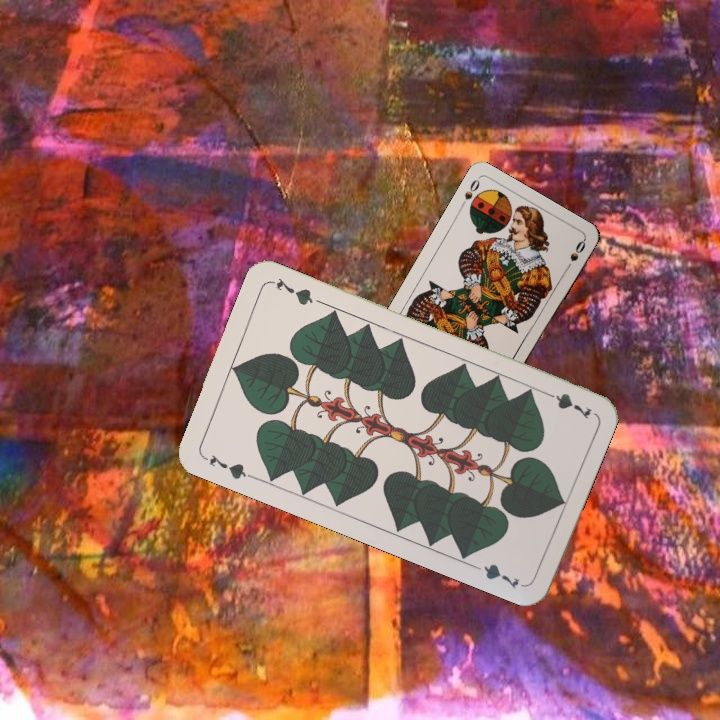G7: (538, 386, 595, 422), (199, 450, 256, 482)
SO: (456, 175, 483, 211)
